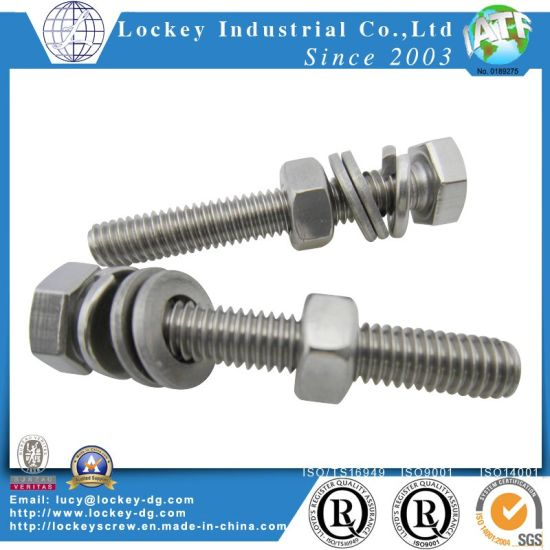loaded bolt: (22, 257, 526, 430), (79, 128, 476, 275)
